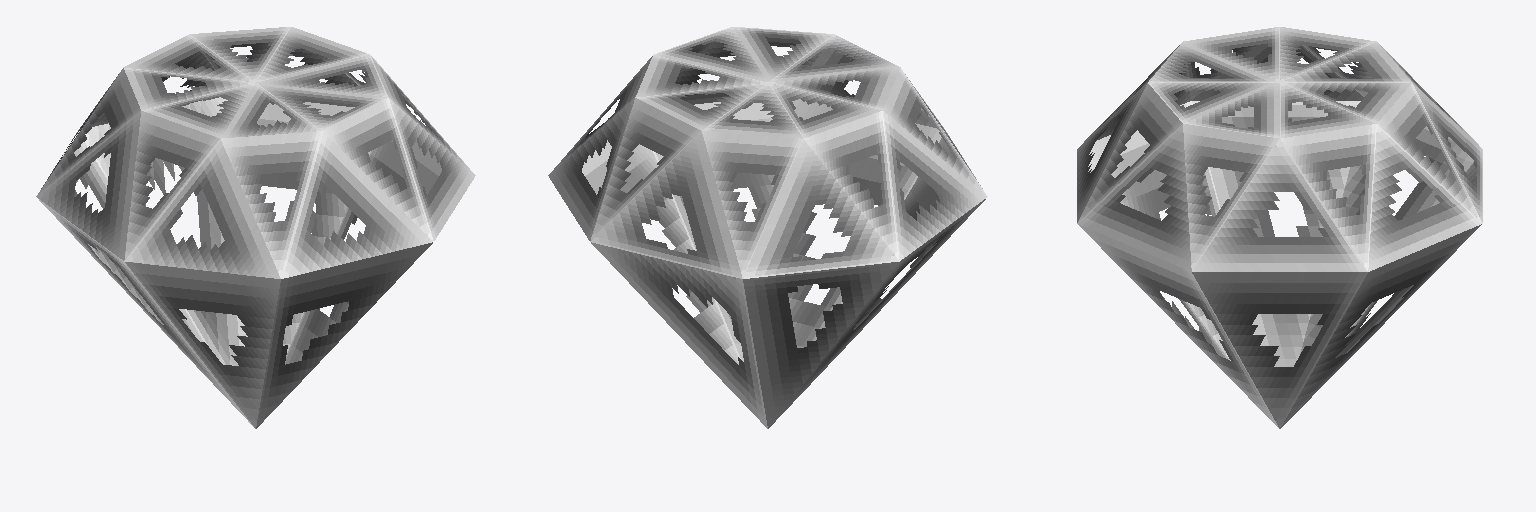
3 views of the same model, side by side, from view 1: azimuth 30°, elevation 25°; view 2: azimuth 150°, elevation 25°; view 3: azimuth 270°, elevation 25° (orthographic).
Parts seen in each view (by area): view 1: Gem; view 2: Gem; view 3: Gem.
Boxes of the visible parts, x1,y1,x2,y2 form: Gem: [36, 27, 475, 428]; Gem: [548, 27, 987, 428]; Gem: [1077, 27, 1482, 428].
Bounding box in the file's own units: 21.21 × 20 × 21.21.
1 materials, 1 textured.